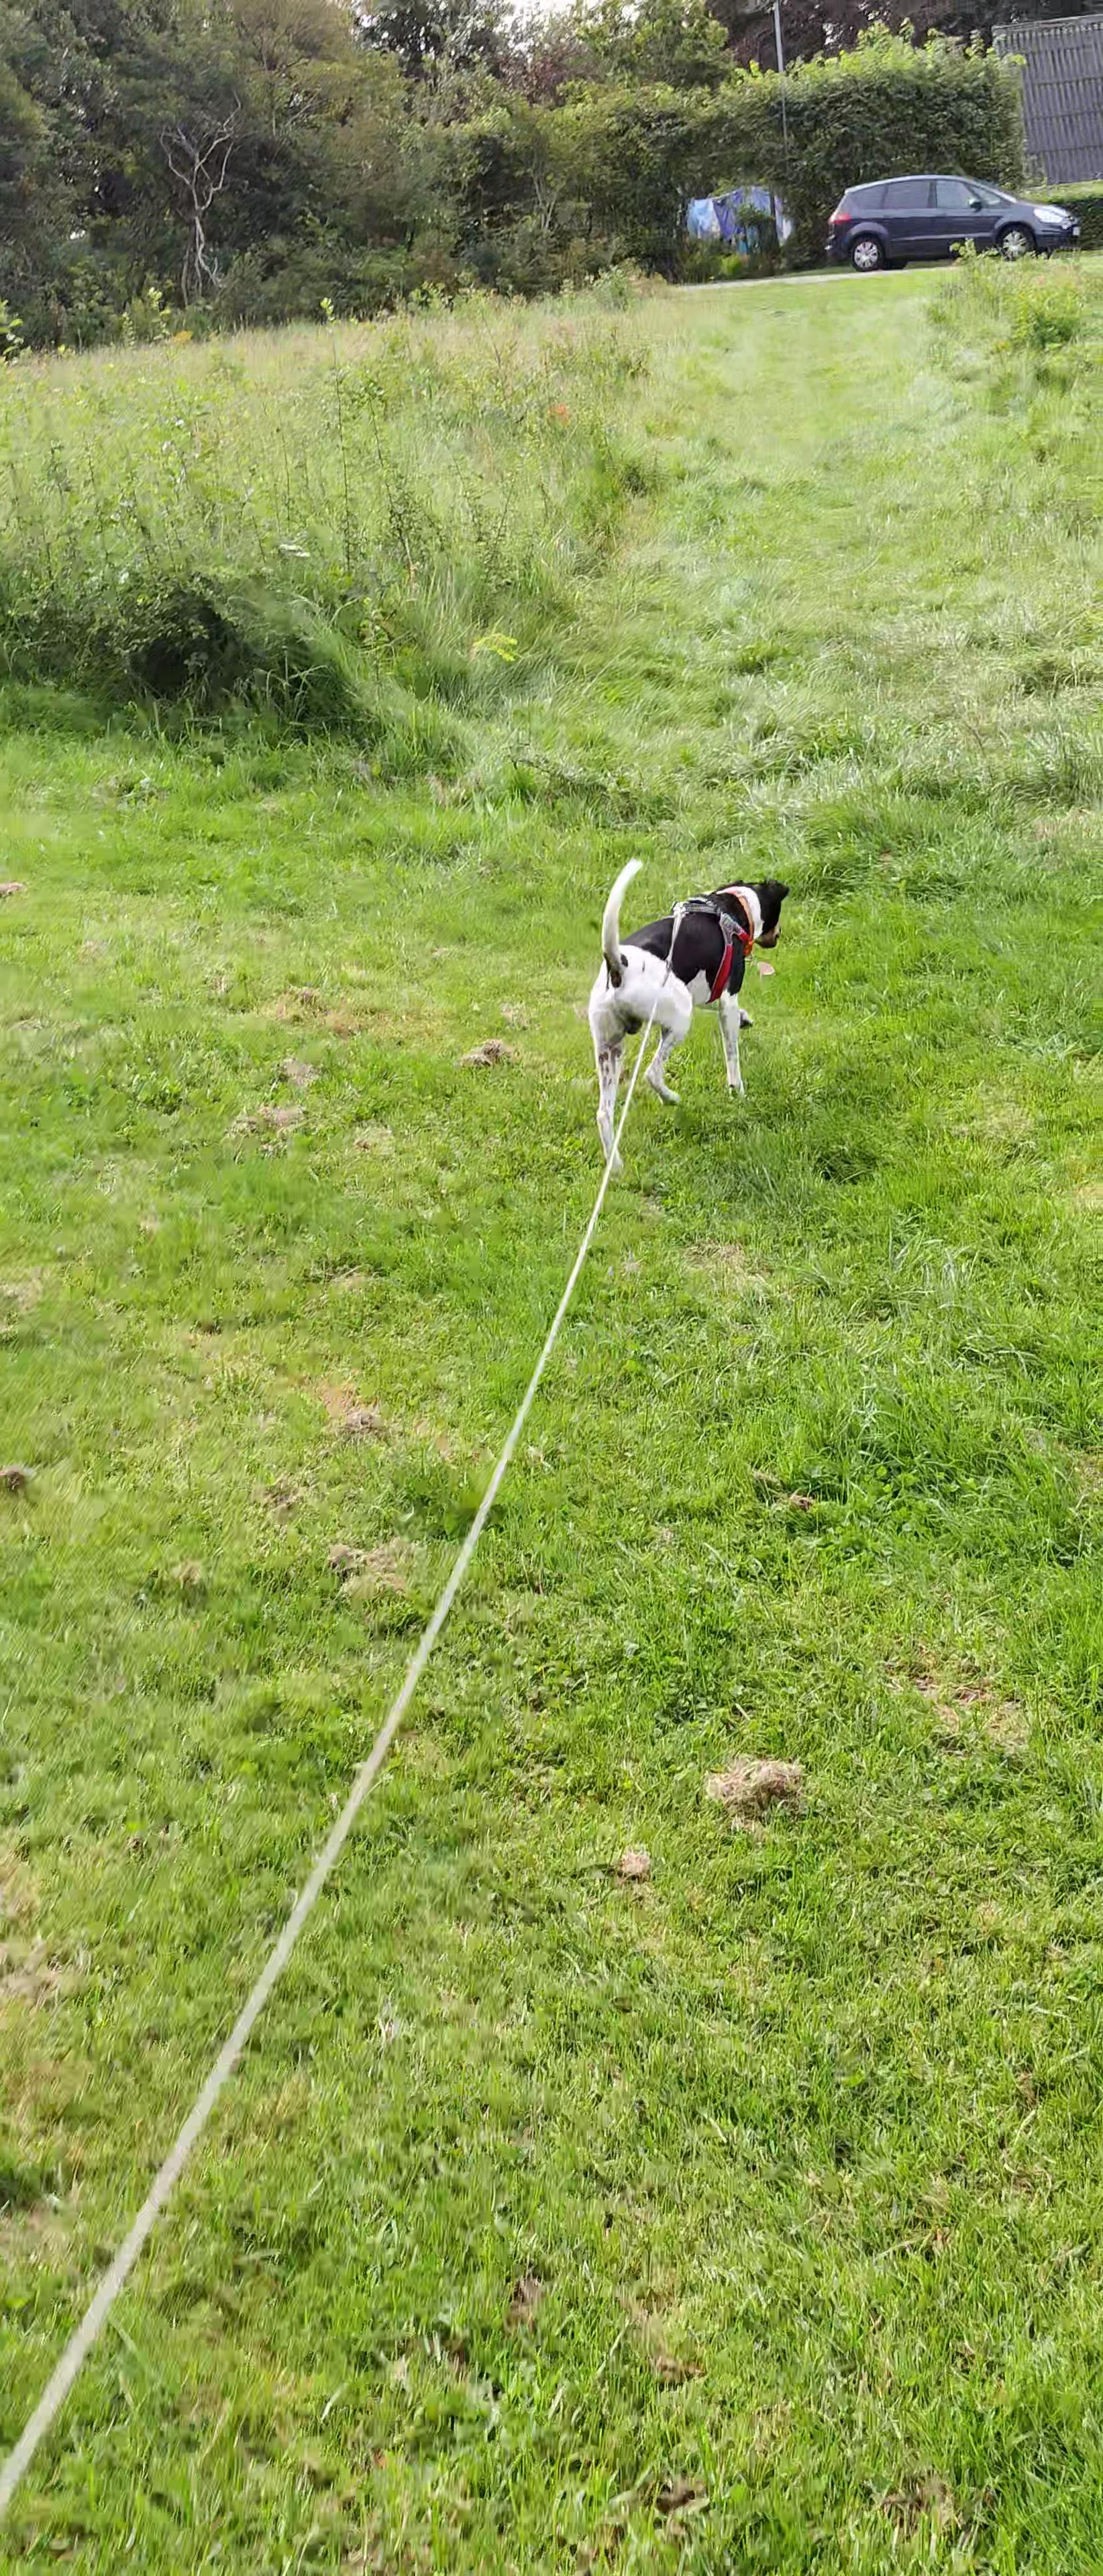Dog: (565, 848, 822, 1198)
